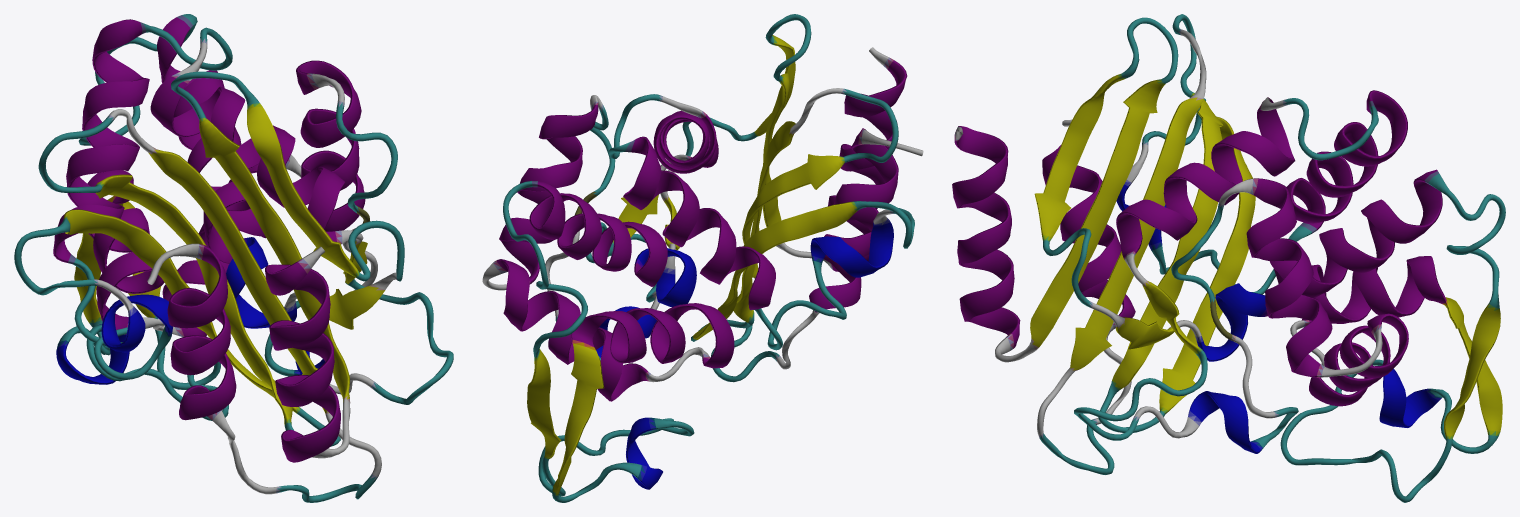
The model's file is animate.0001.obj.
3 views of the same model, side by side, from view 1: azimuth 30°, elevation 25°; view 2: azimuth 150°, elevation 25°; view 3: azimuth 270°, elevation 25° (orthographic). The views are drawn at different scales.
Parts seen in each view (by area): view 1: vmd_mol0_rep0; view 2: vmd_mol0_rep0; view 3: vmd_mol0_rep0.
Part boxes in pixels (x1,y1,x2,y2): vmd_mol0_rep0: (14, 14, 453, 502); vmd_mol0_rep0: (482, 14, 923, 502); vmd_mol0_rep0: (952, 14, 1505, 502).
Bounding box in the file's own units: 1.03 × 1.11 × 1.32.
